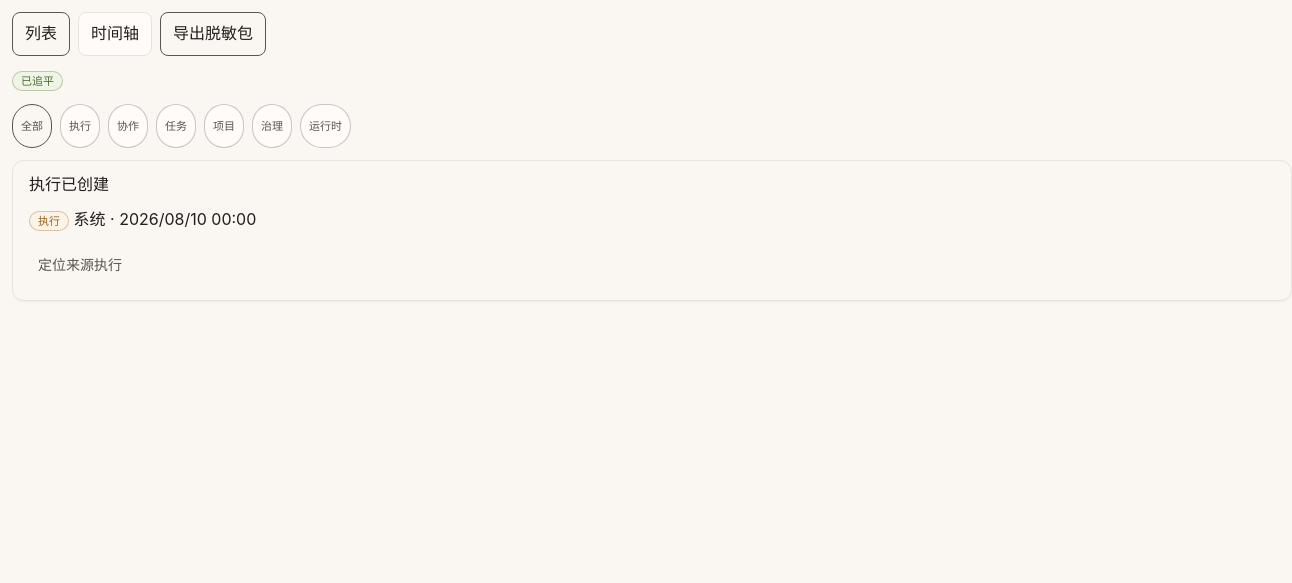
Test: Audit panel timeline view › switches to 时间轴, fetches the timeline, and renders chronological items
Expected: the heading "执行已创建" is shown, [29,174,109,194]
Step 1. Click the button "时间轴" → click(115, 34), box [78,12,152,56]
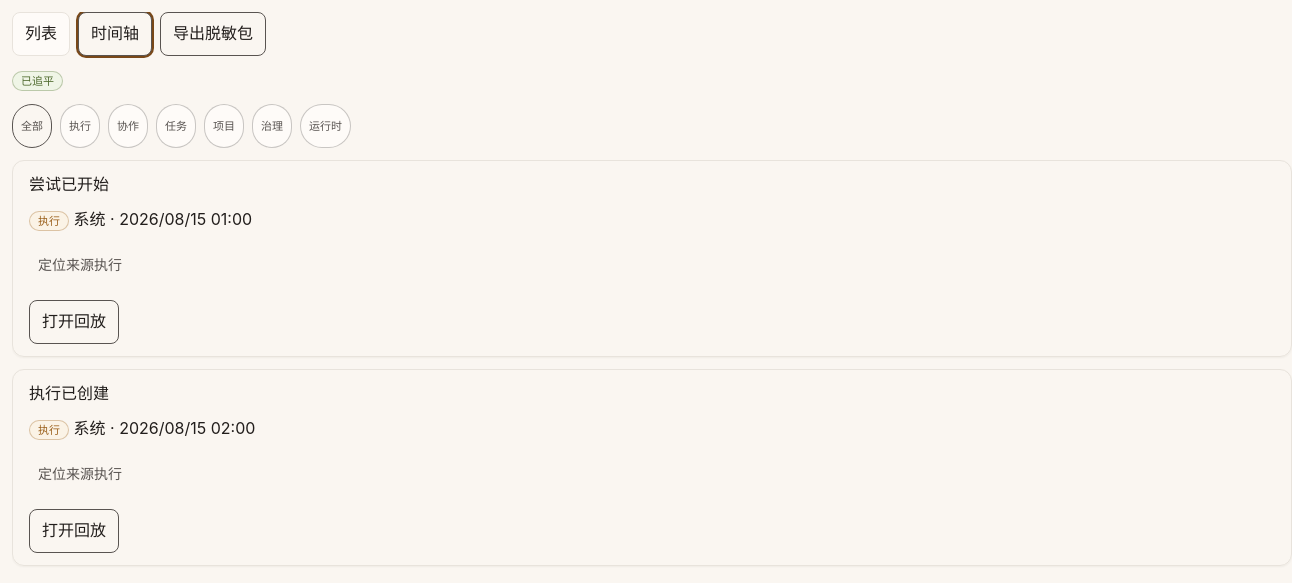
Expected: the number of list items is 2, [12,160,1291,356]; [12,368,1291,566]
Expected: the heading "尝试已开始" is shown, [29,174,109,194]
Expected: the text "2026/08/15 01:00" is shown, [119,209,252,229]
